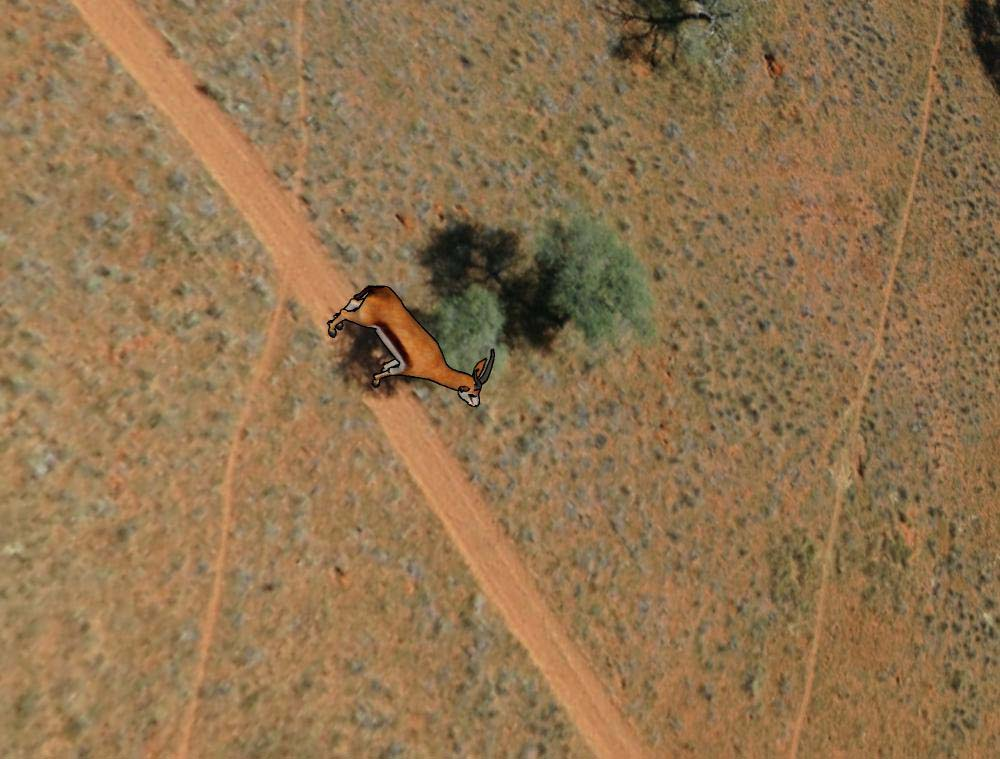springbok: (326, 274, 495, 418)
